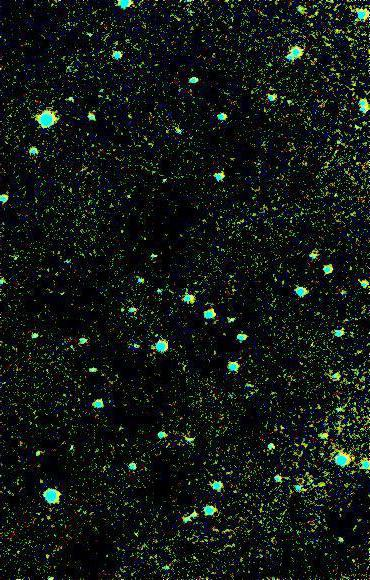star: (338, 546, 368, 576)
